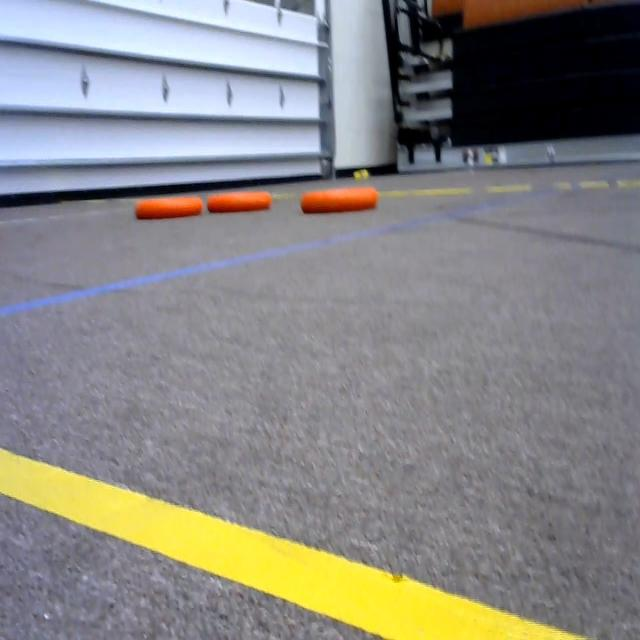note: (299, 177, 381, 214), (204, 178, 281, 214), (130, 188, 204, 224)
